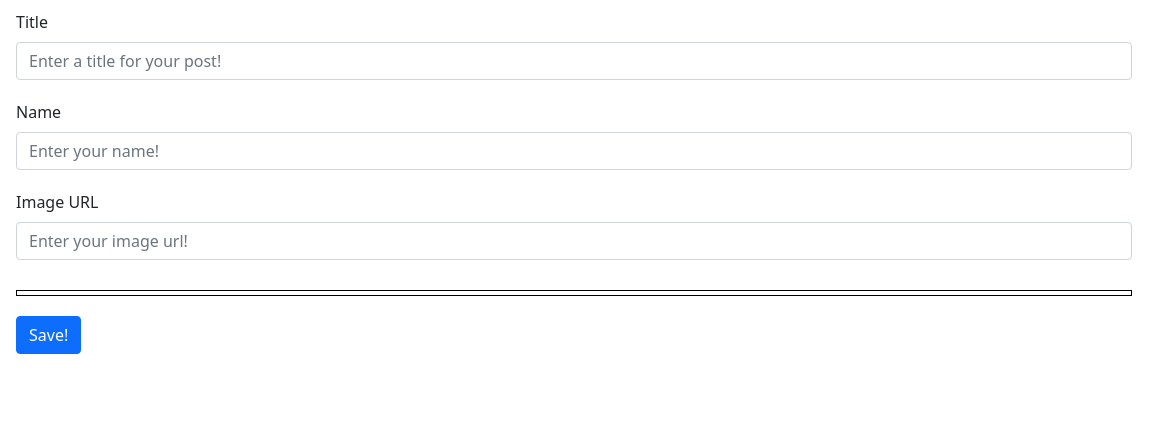
UpdatePostEditor component tests › When 'Save!' is pressed with no input content, all inputs should show error
The image size is (1149, 446).
Step 1. Click the button "Save!" → (49, 335), box [16,316,81,354]
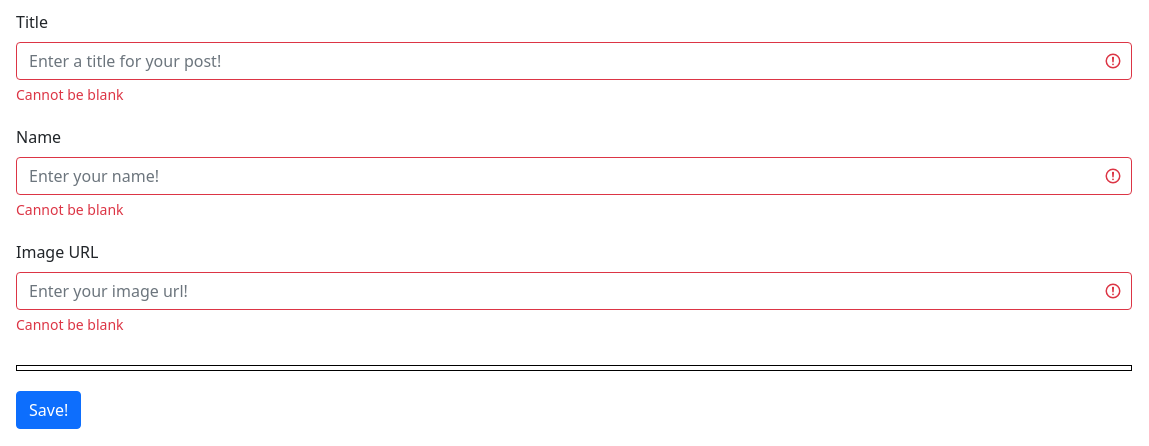
Expected: the element with test id "input" shows "Cannot be blank", [16,85,124,104]
